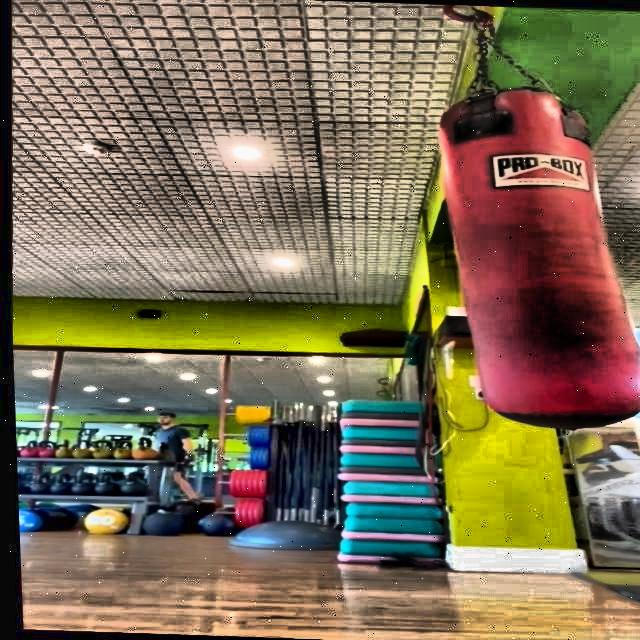boxing-bag: (428, 4, 640, 430)
